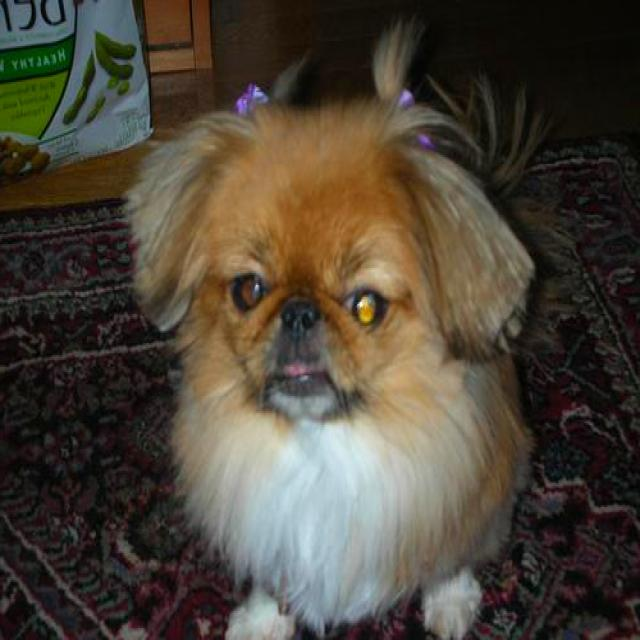pekinese: (105, 86, 553, 638)
